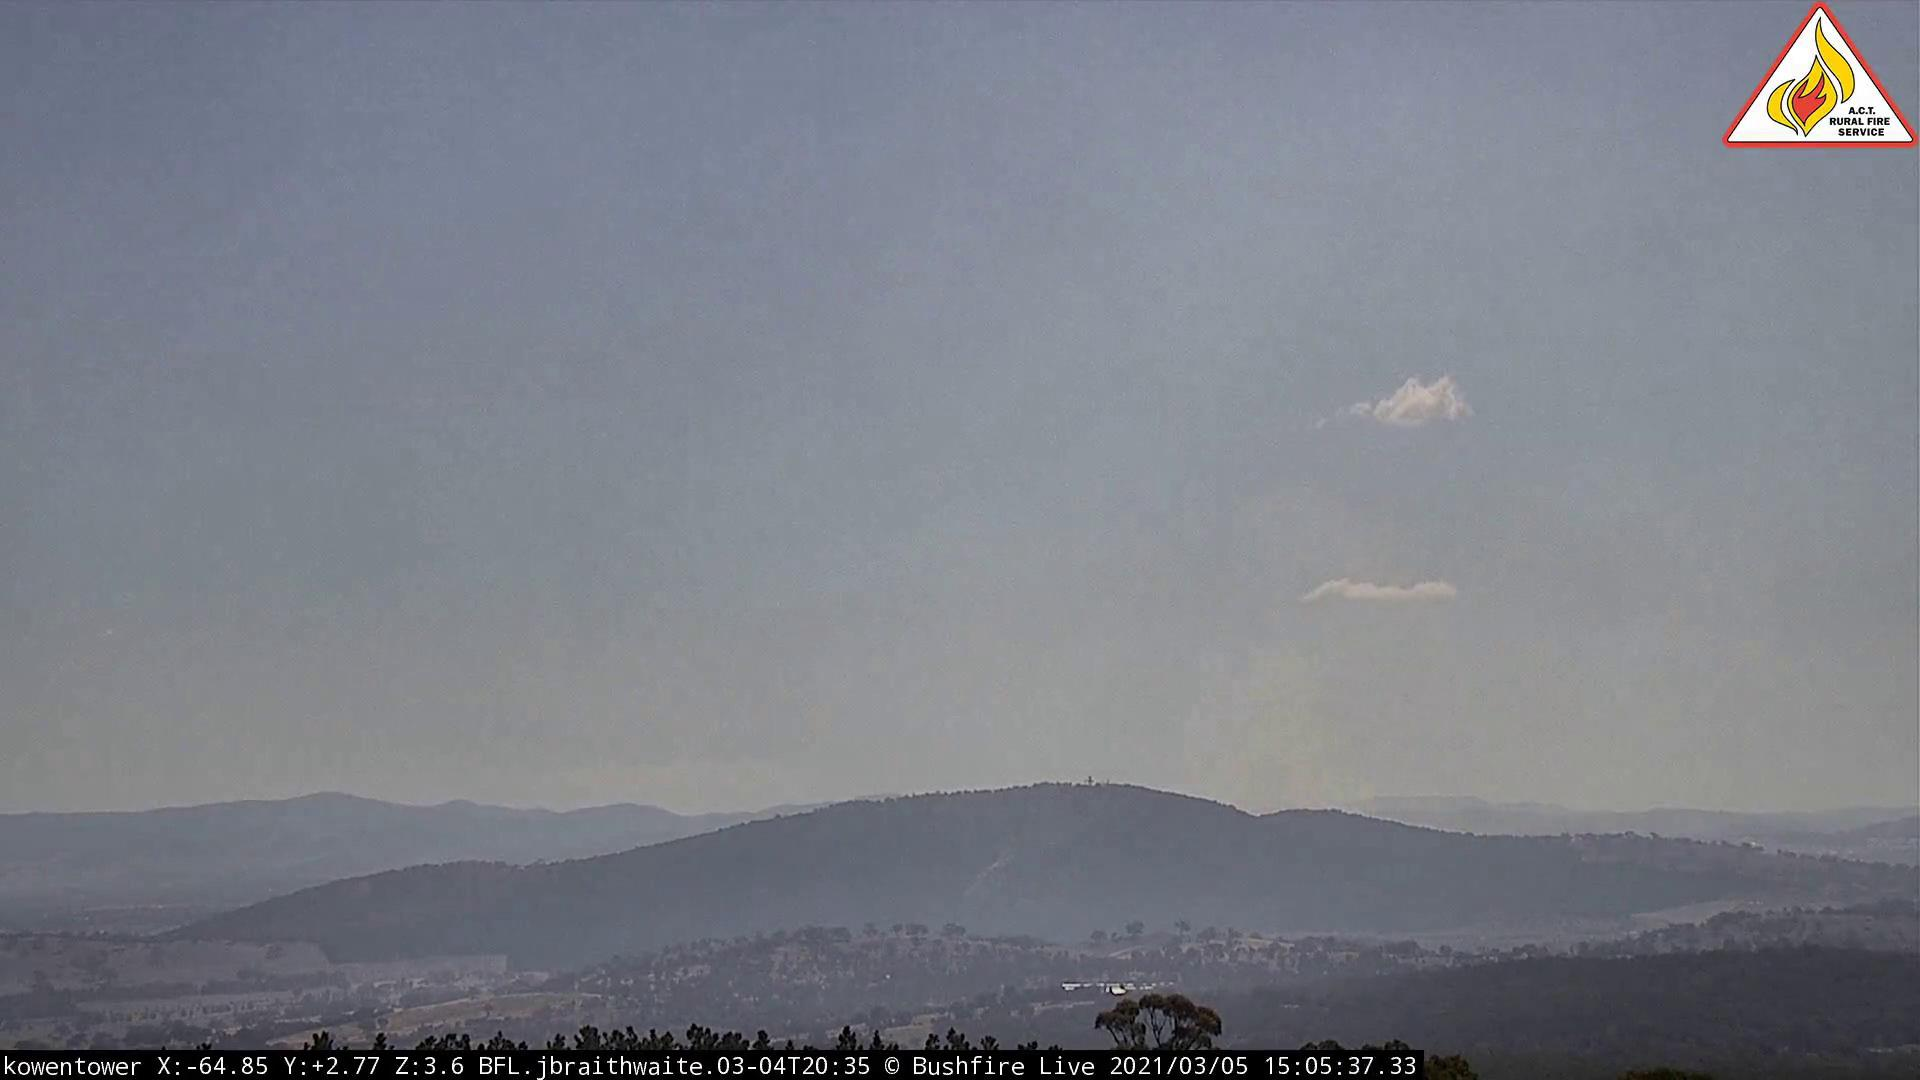Smoke: (989, 473, 1596, 835)
